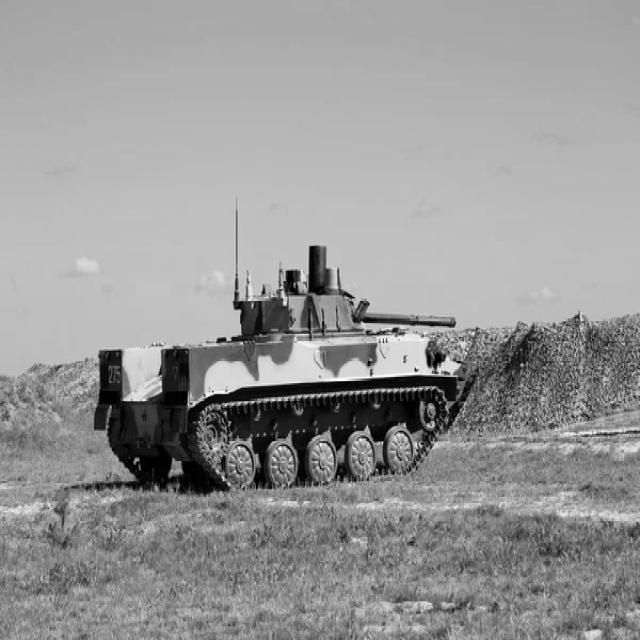Tank: (93, 254, 479, 497)
